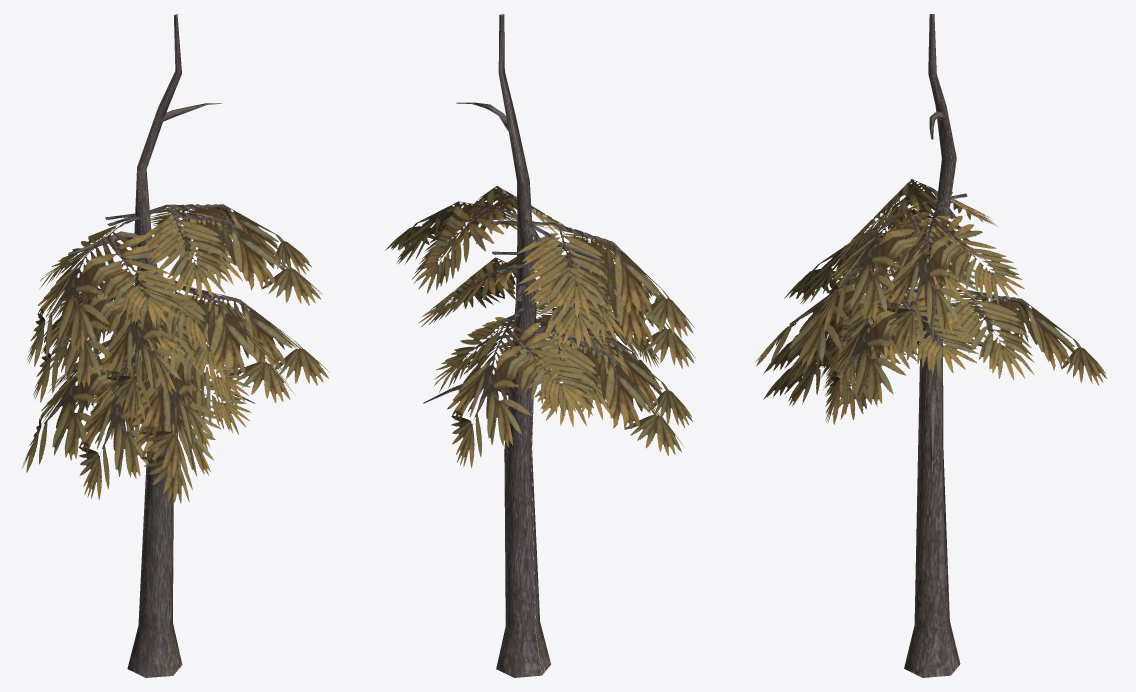
3 renders of one model, left to right at view 1: azimuth 30°, elevation 25°; view 2: azimuth 150°, elevation 25°; view 3: azimuth 270°, elevation 25°, orthographic. The views are drawn at different scales.
Visible parts, largest first — view 1: tree2; view 2: tree2; view 3: tree2.
Part boxes in pixels (x1,y1,x2,y2): tree2: (22, 14, 329, 677); tree2: (385, 14, 695, 677); tree2: (754, 14, 1106, 677).
Bounding box in the file's own units: 6.49 × 12.57 × 6.58.
Materials: 1 (1 with a texture image).
